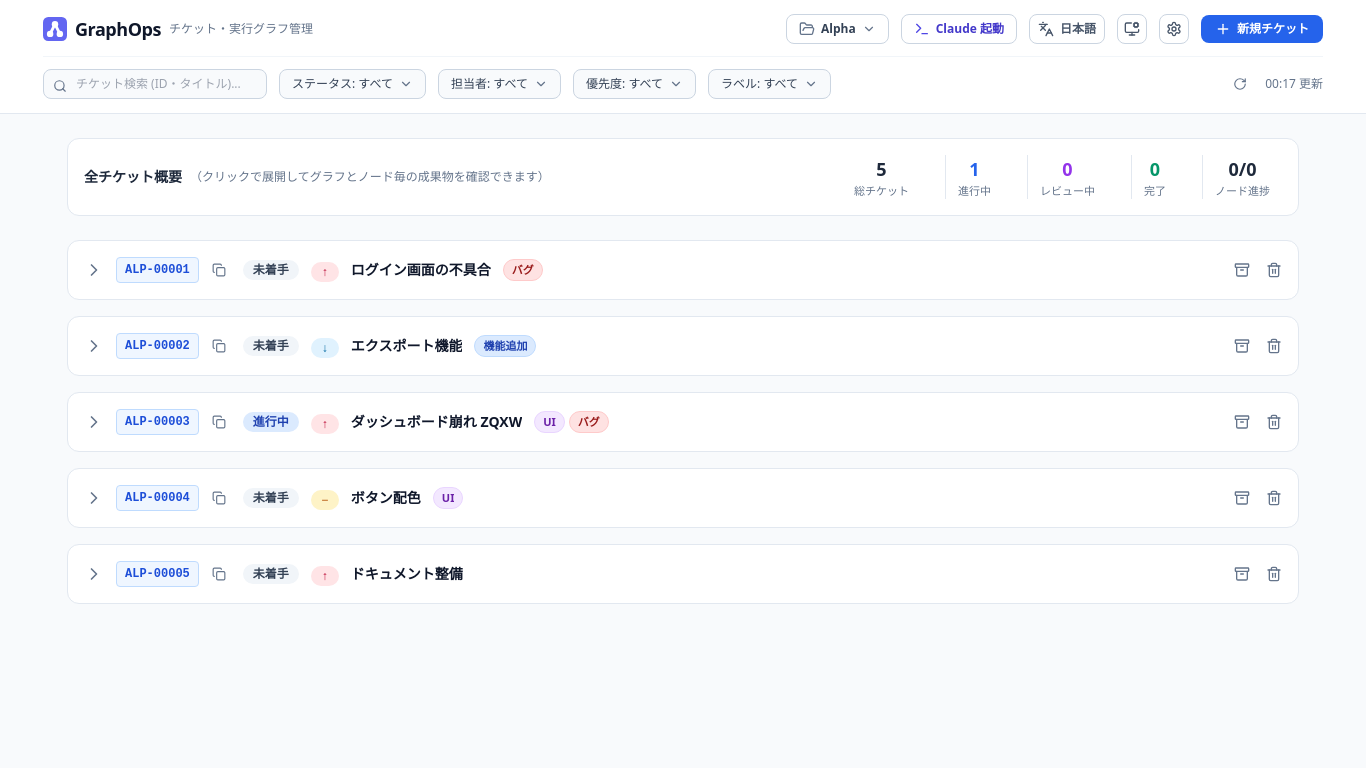
App label filter › clears with "clear selection"
expect the text "ALP-00001" is shown: met, box [116,257,199,283]
Click the button "ラベル: すべて" at (770, 84), box [708,69,831,99]
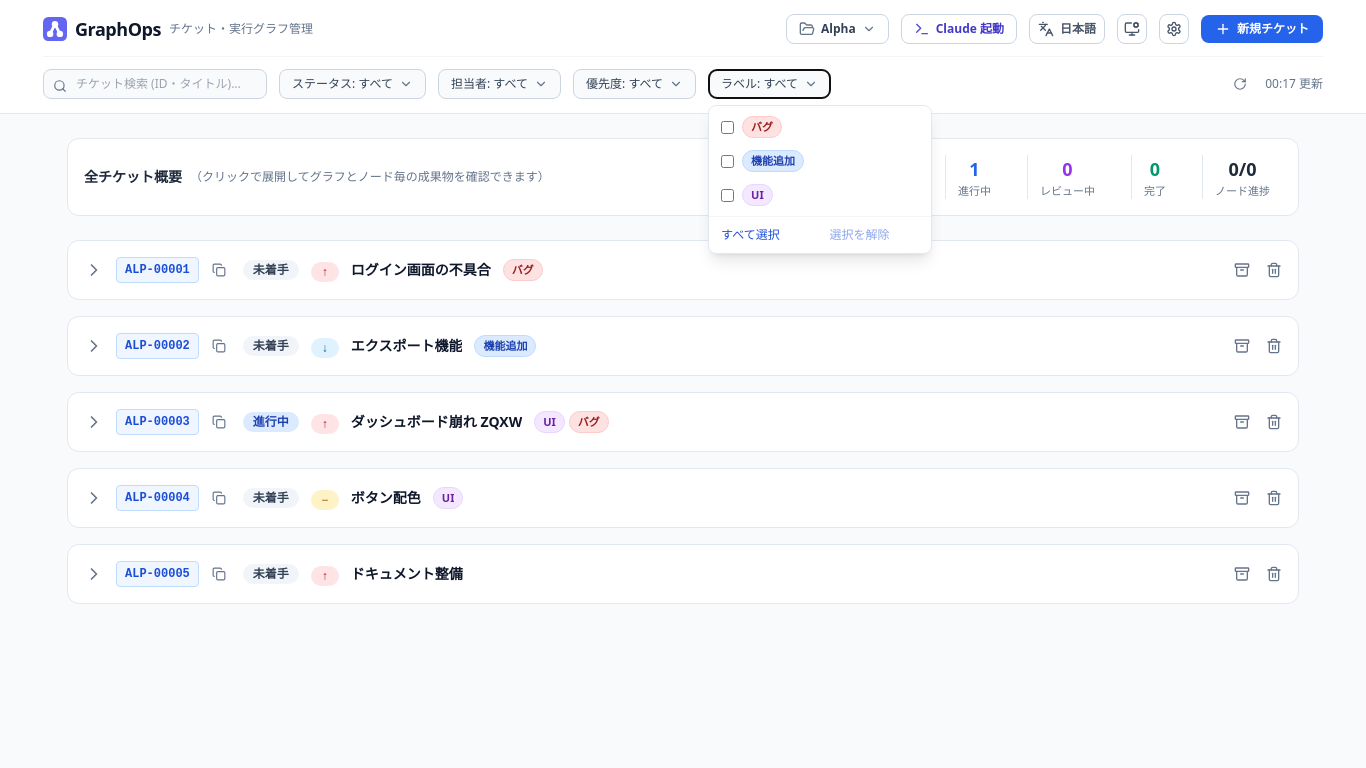
Click the checkbox labelled "バグ" at (728, 127), box [721,120,734,134]
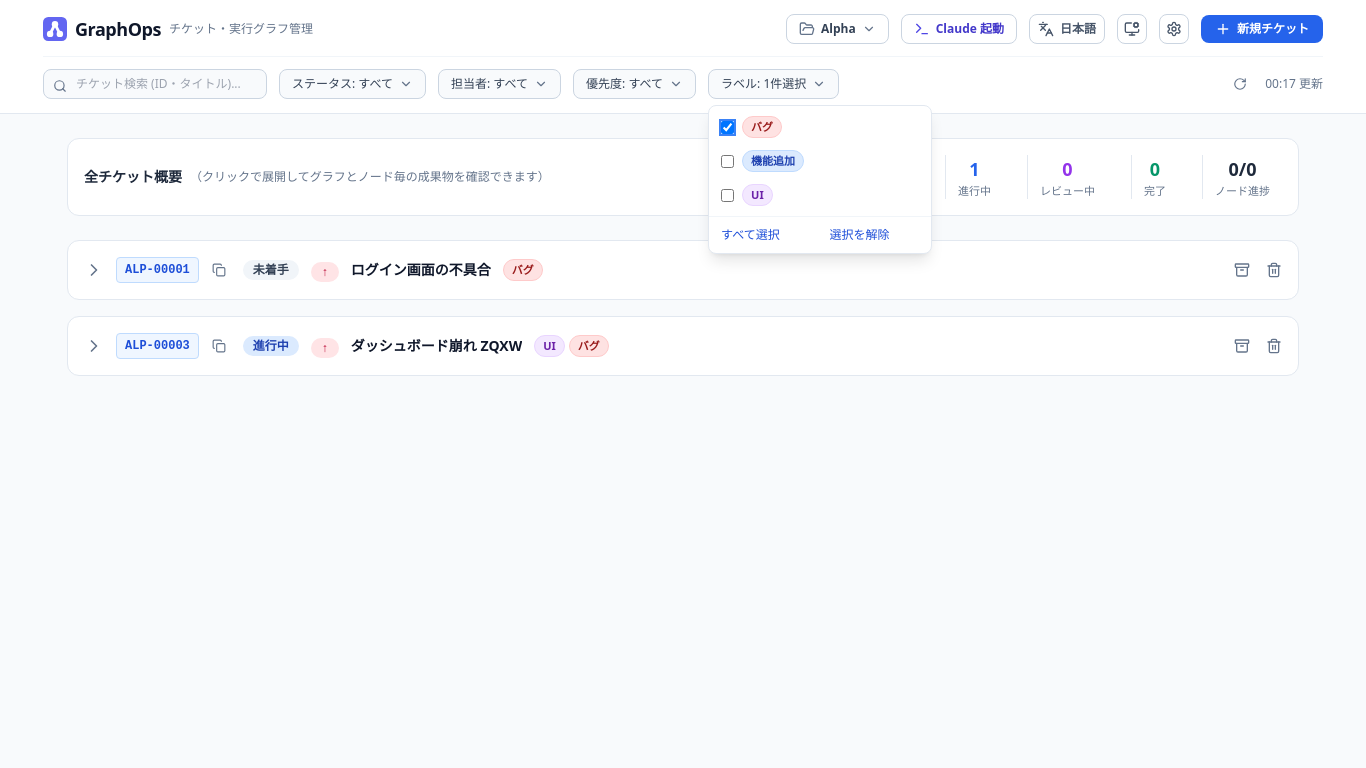
Click the checkbox labelled "UI" at (728, 195), box [721,188,734,202]
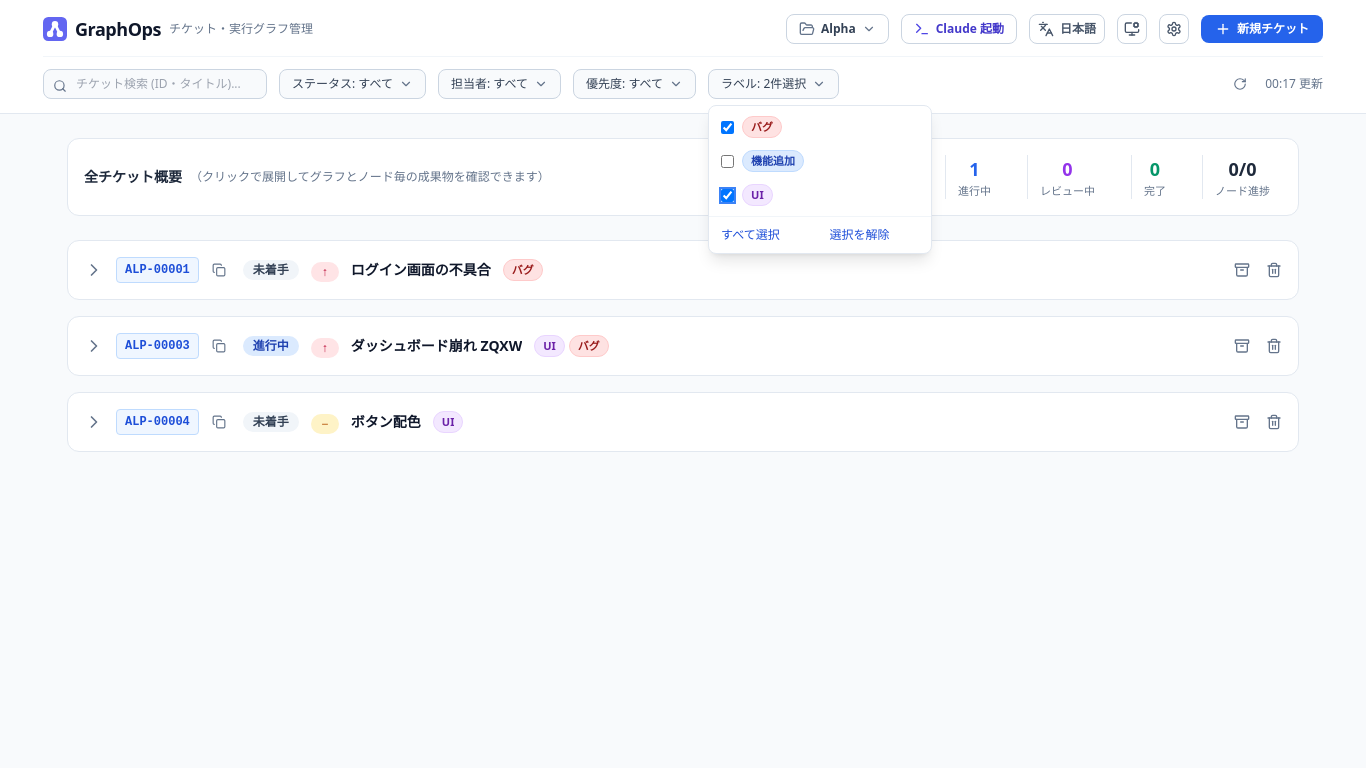
expect the text "ALP-00001" is shown: met, box [116,257,199,283]
expect the text "ALP-00004" is shown: met, box [116,409,199,435]
Click the button "選択を解除" at (874, 235), box [821,221,927,249]
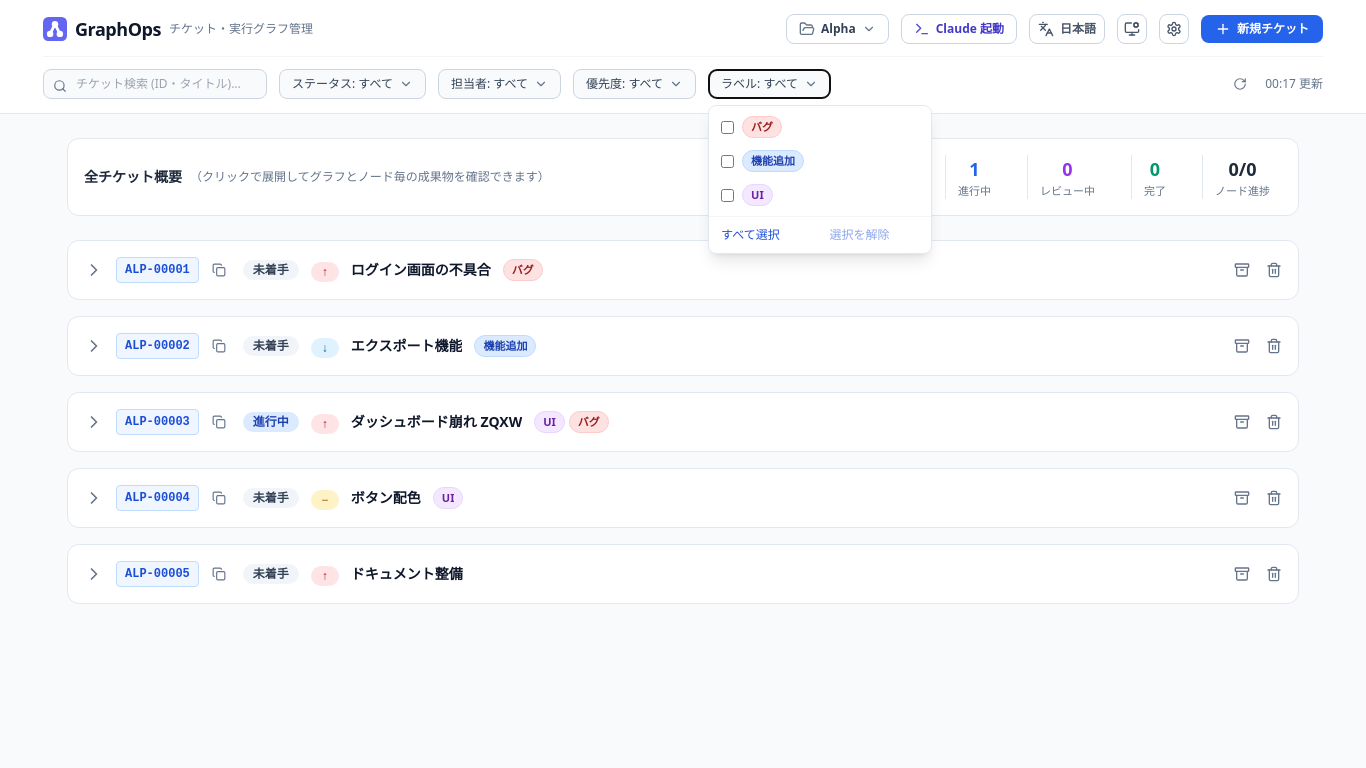
expect the text "ALP-00004" is shown: met, box [116,485,199,511]
expect the button "ラベル: すべて" is shown: met, box [708,69,831,99]
expect the text "ALP-00002" is shown: met, box [116,333,199,359]
